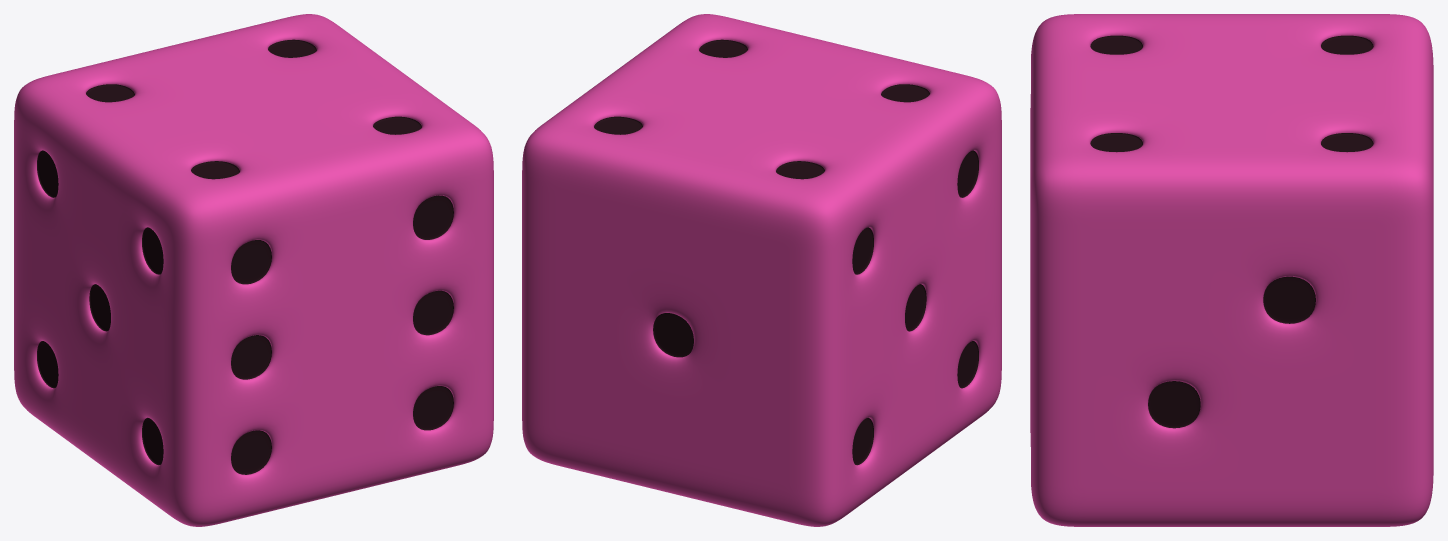
Rendered from metallicCube_pwa.glb.
3 renders of one model, left to right at view 1: azimuth 30°, elevation 25°; view 2: azimuth 150°, elevation 25°; view 3: azimuth 270°, elevation 25°, orthographic. The views are drawn at different scales.
Parts seen in each view (by area): view 1: Cube; view 2: Cube; view 3: Cube.
Boxes of the visible parts, x1,y1,x2,y2 form: Cube: (14,14,493,526); Cube: (522,14,1001,526); Cube: (1030,14,1433,526).
Size of the model in its own units: 2 by 2 by 2.
